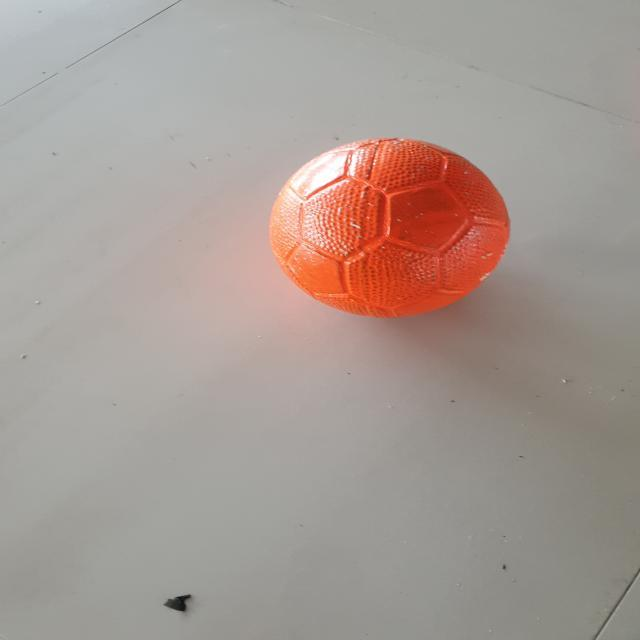bola: (236, 129, 543, 329)
